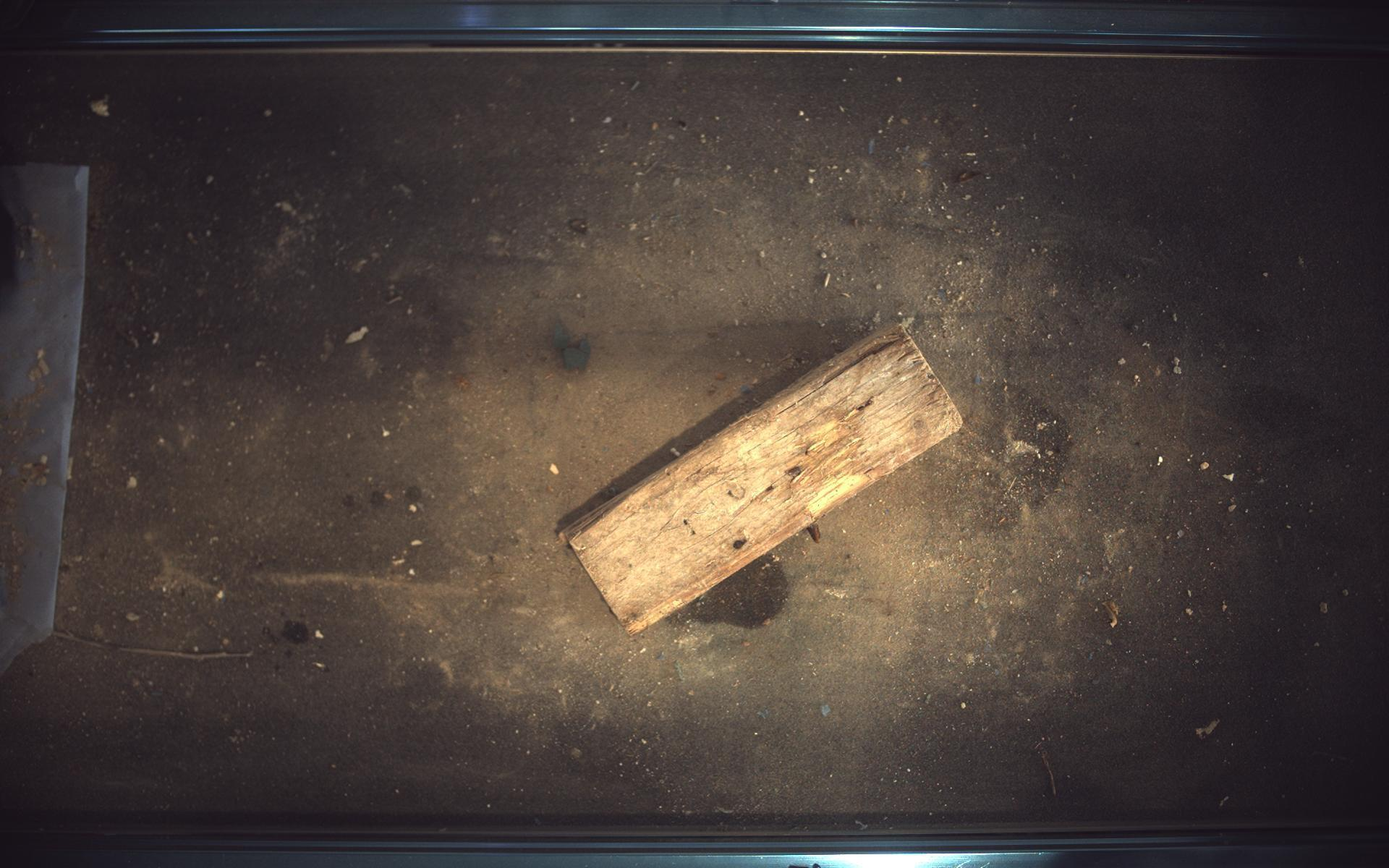wood: (561, 323, 964, 635)
